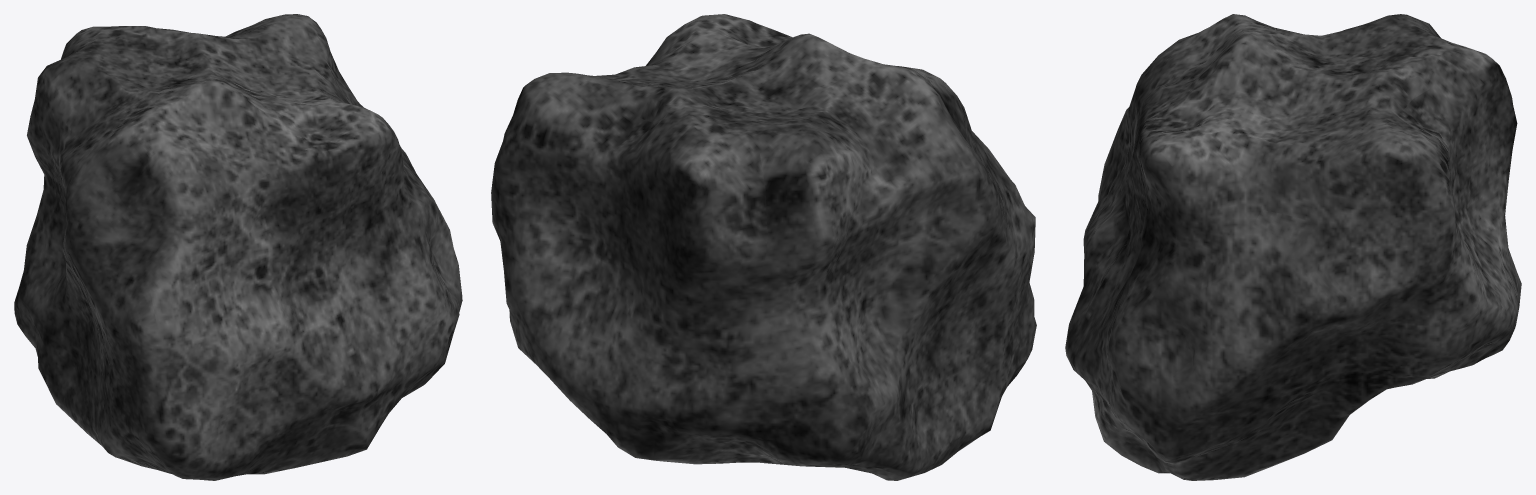
The model's file is asteroid2.glb.
3 views of the same model, side by side, from view 1: azimuth 30°, elevation 25°; view 2: azimuth 150°, elevation 25°; view 3: azimuth 270°, elevation 25° (orthographic). The views are drawn at different scales.
Visible parts, largest first — view 1: Asteroid_no_1; view 2: Asteroid_no_1; view 3: Asteroid_no_1.
Boxes of the visible parts, <box> form: Asteroid_no_1: <box>14,14,462,480</box>; Asteroid_no_1: <box>491,14,1036,480</box>; Asteroid_no_1: <box>1065,14,1521,480</box>.
Size of the model in its own units: 8.59 by 8.11 by 8.44.
Materials: 1 (1 with a texture image).
